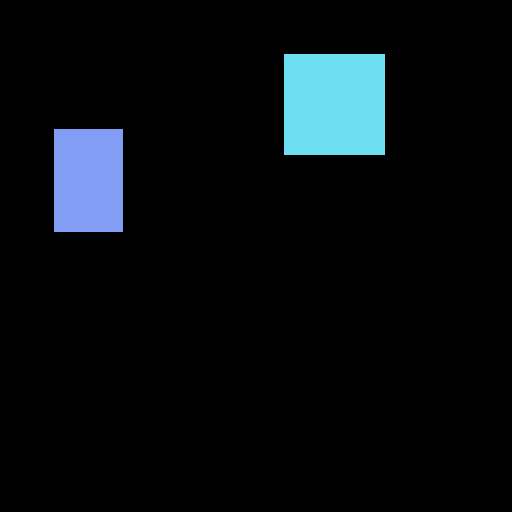rectangle: (54, 129, 122, 231)
square: (284, 54, 384, 154)
